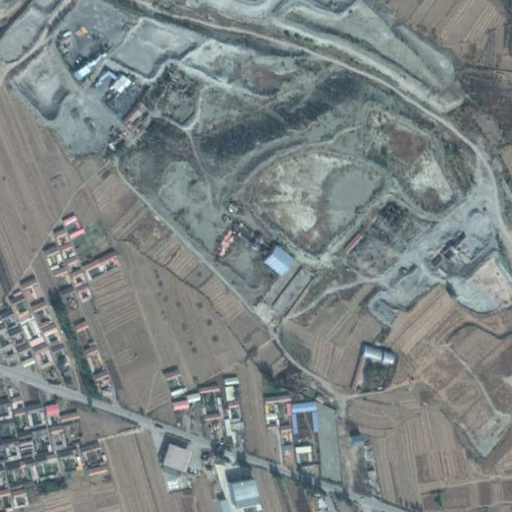tp: (13, 3, 486, 265)
